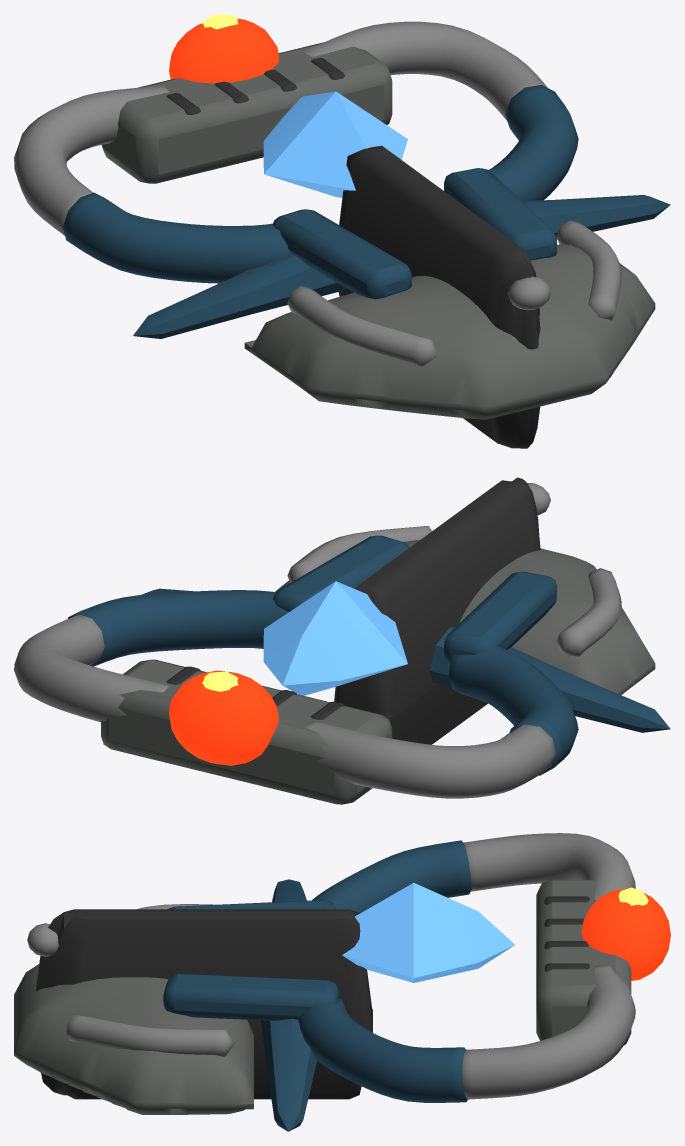
Rendered from beacon_frame.glb.
3 renders of one model, top to bottom at view 1: azimuth 30°, elevation 25°; view 2: azimuth 150°, elevation 25°; view 3: azimuth 270°, elevation 25°, orthographic. The views are drawn at different scales.
Visible parts, largest first — view 1: shield, pillar, crossbar, horn_low1, horn-1, crystal, horn1, fin-1, horn_low-1, panel-1, beacon, panel1 (+4 smaller); view 2: pillar, crossbar, horn1, crystal, horn_low-1, shield, horn-1, beacon, horn_low1, panel-1, fin-1, panel1 (+3 smaller); view 3: pillar, shield, crystal, horn-1, horn_low-1, crossbar, horn1, panel1, horn_low1, beacon, fin1, rib1 (+3 smaller).
Part boxes in pixels (<box>): shield: <box>244,244,655,419</box>; pillar: <box>338,145,540,448</box>; crossbar: <box>101,42,392,183</box>; horn_low1: <box>63,192,291,283</box>; horn-1: <box>302,21,547,120</box>; crystal: <box>263,91,407,197</box>; horn1: <box>14,85,168,235</box>; fin-1: <box>133,254,347,338</box>; horn_low-1: <box>489,85,578,201</box>; panel-1: <box>273,209,411,299</box>; beacon: <box>169,18,278,83</box>; panel1: <box>444,168,556,260</box>; pillar: <box>334,477,540,744</box>; crossbar: <box>101,659,392,804</box>; horn1: <box>302,721,556,798</box>; crystal: <box>263,581,407,695</box>; horn_low-1: <box>67,590,288,666</box>; shield: <box>275,540,655,694</box>; horn-1: <box>14,614,169,722</box>; beacon: <box>169,670,278,765</box>; horn_low1: <box>448,645,578,775</box>; panel-1: <box>444,571,556,664</box>; fin-1: <box>430,626,670,732</box>; panel1: <box>273,535,409,611</box>; pillar: <box>36,909,372,1099</box>; shield: <box>14,964,253,1114</box>; crystal: <box>342,882,514,982</box>; horn-1: <box>462,965,635,1099</box>; horn_low-1: <box>298,998,467,1102</box>; crossbar: <box>536,880,631,1045</box>; horn1: <box>463,833,635,899</box>; panel1: <box>163,973,339,1020</box>; horn_low1: <box>312,840,471,913</box>; beacon: <box>581,888,670,980</box>; fin1: <box>260,1018,316,1131</box>; rib1: <box>66,1014,234,1056</box>.
Bounding box in the file's own units: 22.4 × 8.85 × 24.9.
